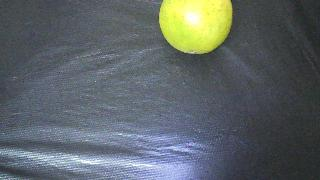LOCAL: (159, 0, 233, 54)
